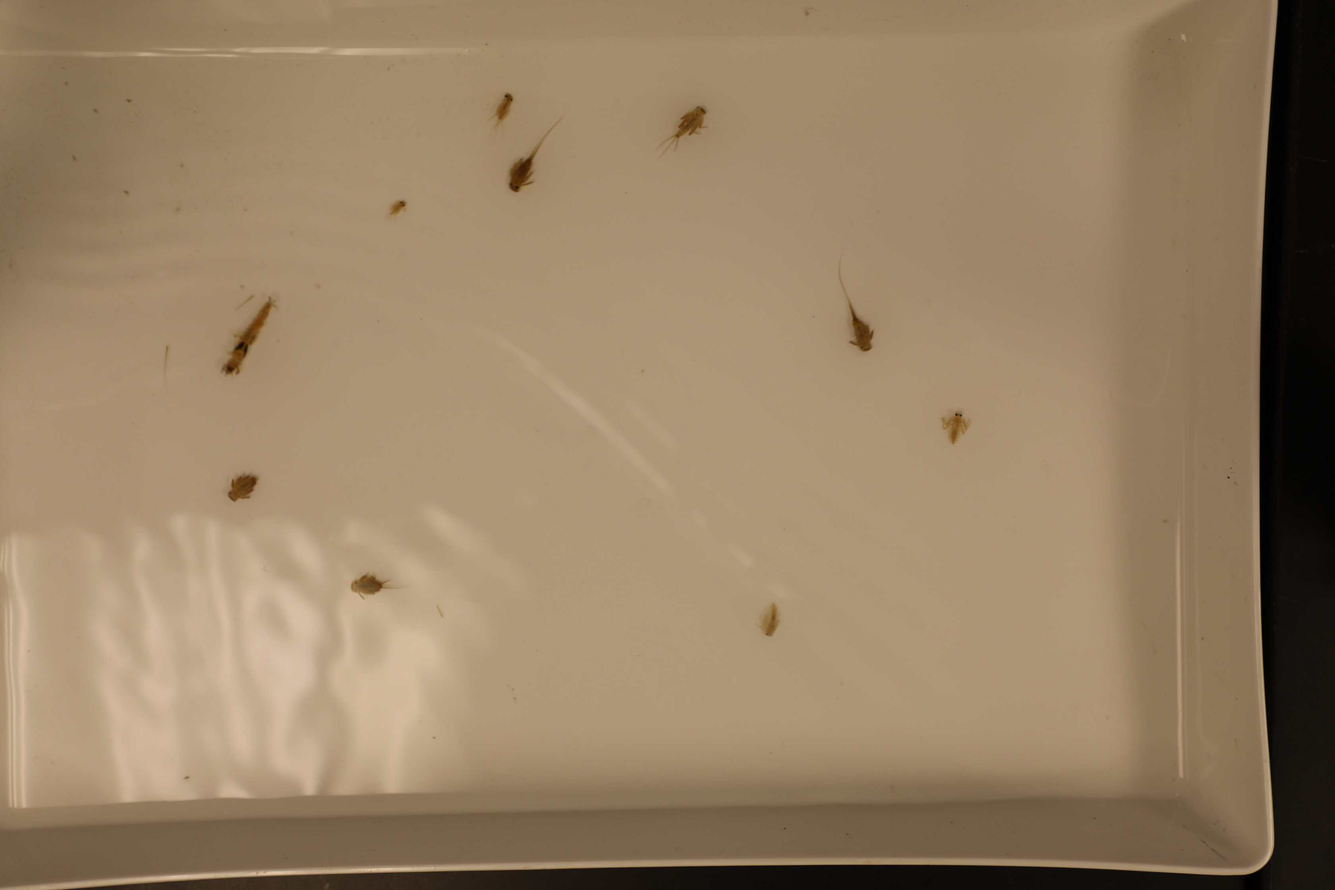Mayfly: (832, 271, 895, 350), (221, 294, 277, 378), (507, 125, 560, 201), (667, 102, 713, 145), (938, 405, 976, 454), (347, 566, 396, 601), (487, 88, 523, 132), (225, 474, 269, 502), (756, 599, 788, 637), (385, 192, 416, 221)
